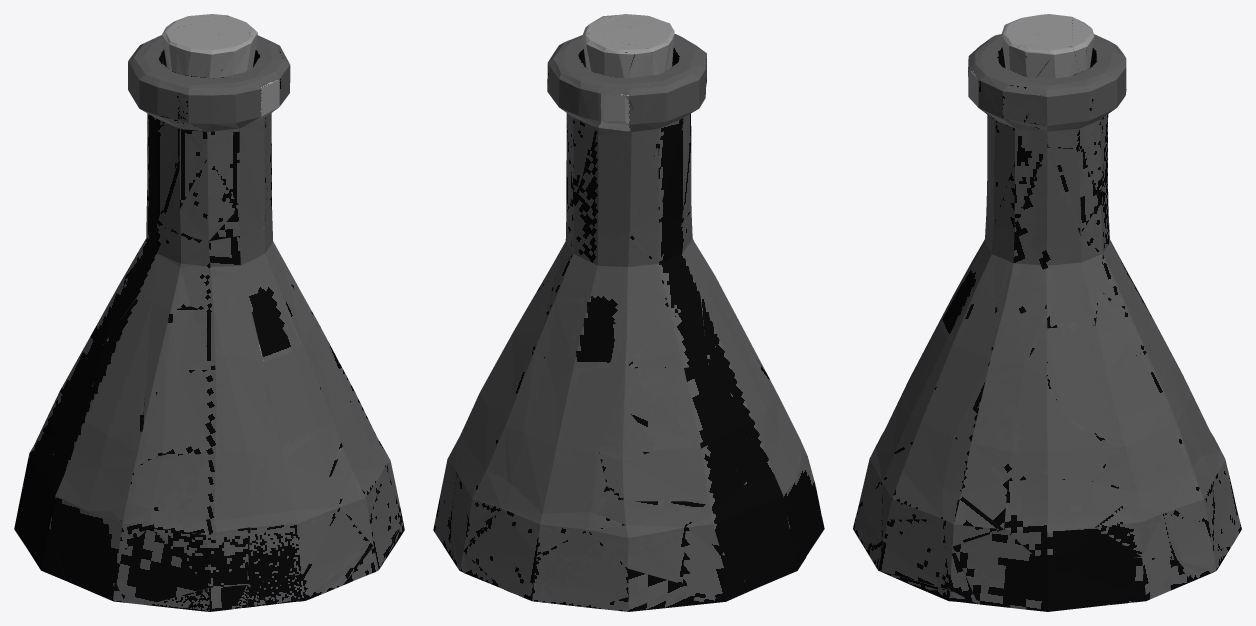
3 views of the same model, side by side, from view 1: azimuth 30°, elevation 25°; view 2: azimuth 150°, elevation 25°; view 3: azimuth 270°, elevation 25° (orthographic).
Visible parts, largest first — view 1: OBJ0bc; view 2: OBJ0bc; view 3: OBJ0bc.
Boxes of the visible parts, x1,y1,x2,y2 form: OBJ0bc: (14, 14, 404, 611); OBJ0bc: (433, 14, 824, 611); OBJ0bc: (853, 14, 1241, 611).
Size of the model in its own units: 0.1845 by 0.2602 by 0.1843.
Materials: 1 (1 with a texture image).
